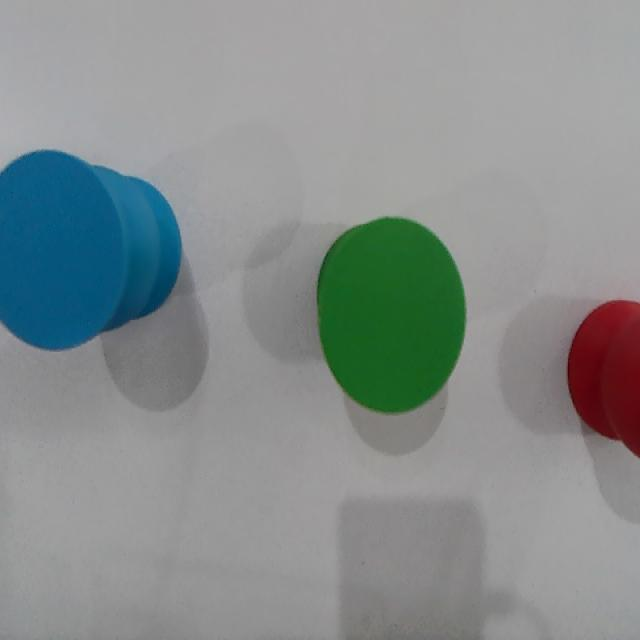g: (319, 217, 465, 412)
